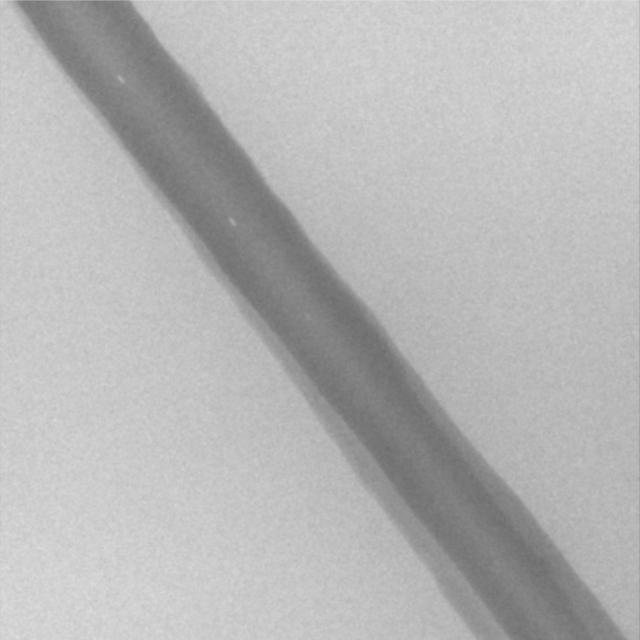air hole: (114, 72, 125, 86), (226, 216, 236, 227)
